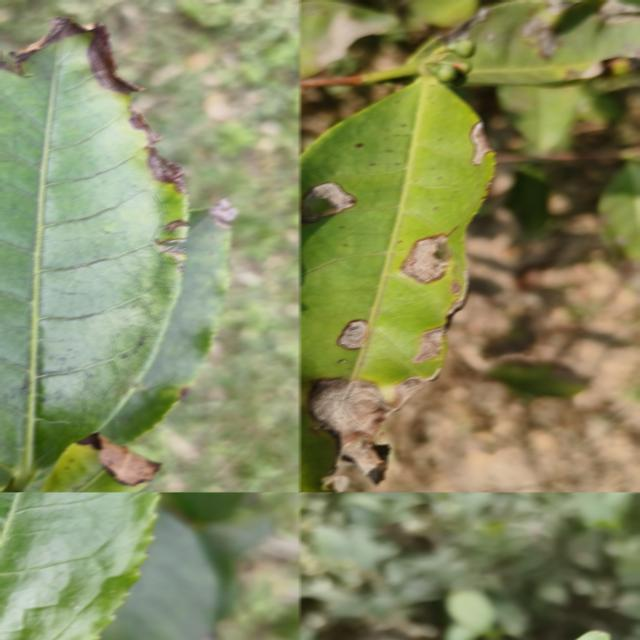Leaf: (0, 17, 187, 491), (300, 74, 494, 492), (100, 198, 234, 443), (0, 492, 158, 640), (94, 509, 219, 640), (456, 0, 640, 85), (300, 0, 397, 78), (39, 432, 160, 492), (495, 85, 580, 152), (598, 161, 640, 267), (487, 361, 586, 397), (504, 164, 550, 235), (444, 590, 495, 636), (166, 492, 246, 521), (271, 600, 300, 640)
